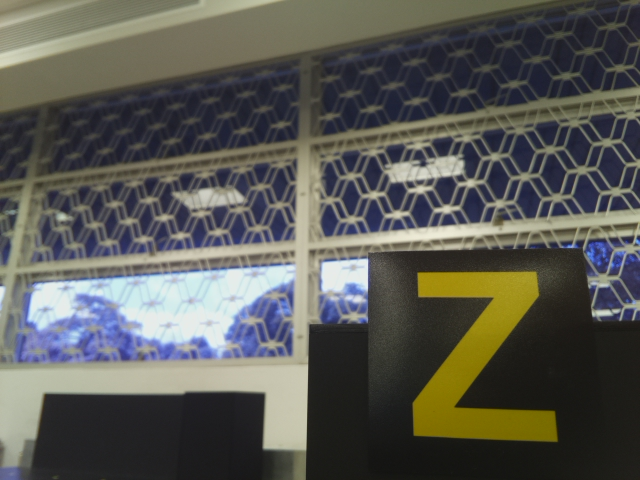z: (401, 265, 571, 449)
